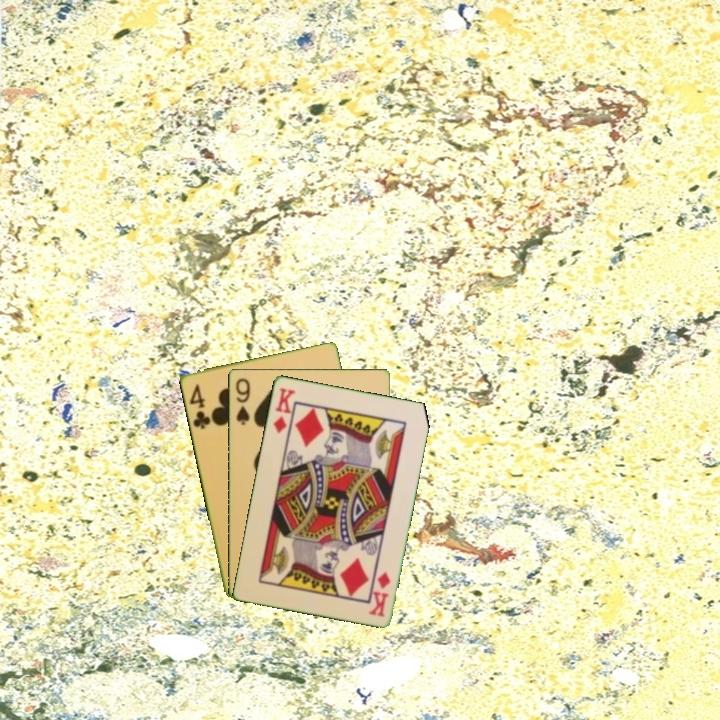4c: (185, 380, 213, 431)
9s: (232, 374, 253, 427)
Kd: (269, 384, 298, 436), (366, 568, 393, 619)
